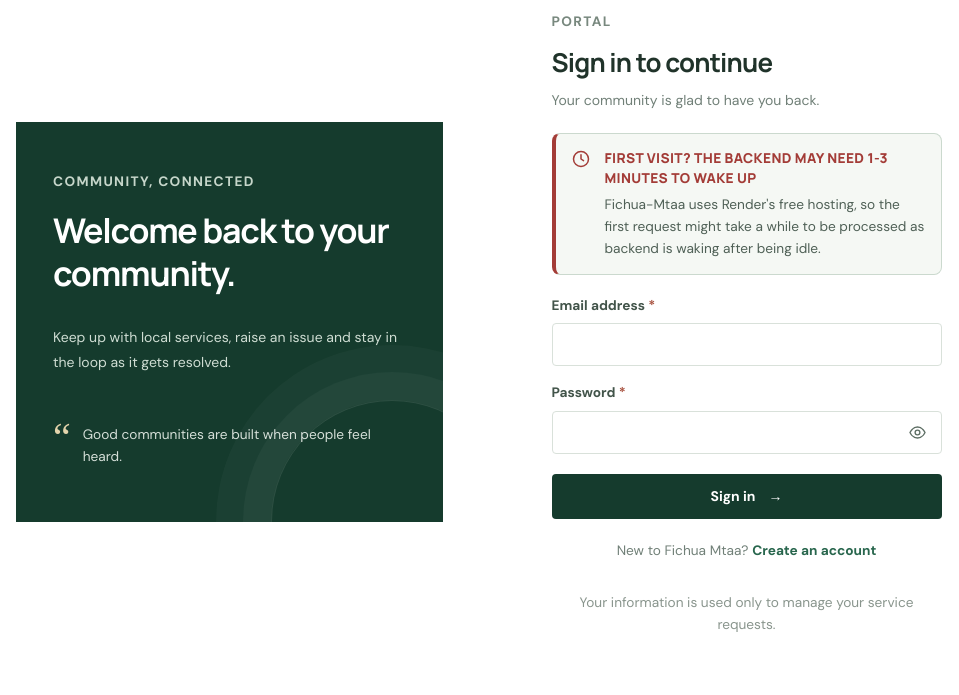
Scenario: authentication forms › shows a safe generic credential error after a failed login
This screenshot has width=959, height=695.
Type "citizen@example.com" into the field labelled "Email address *" at point(746, 345), box [552,323,942,366]
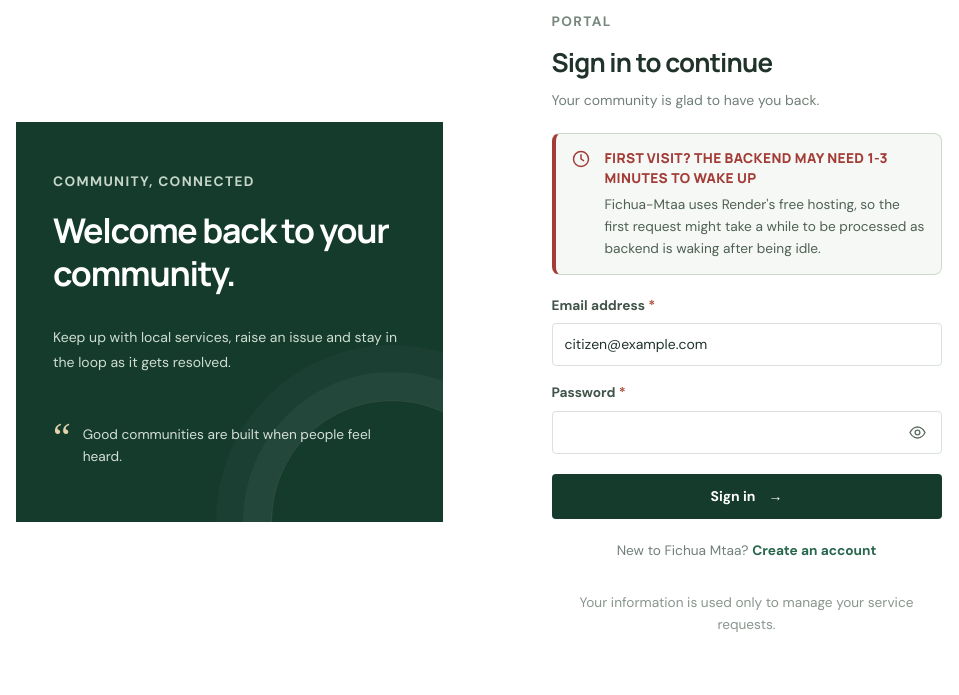
Type "incorrect-value" into the password field labelled "Password *" at point(746, 432), box [552,411,942,454]
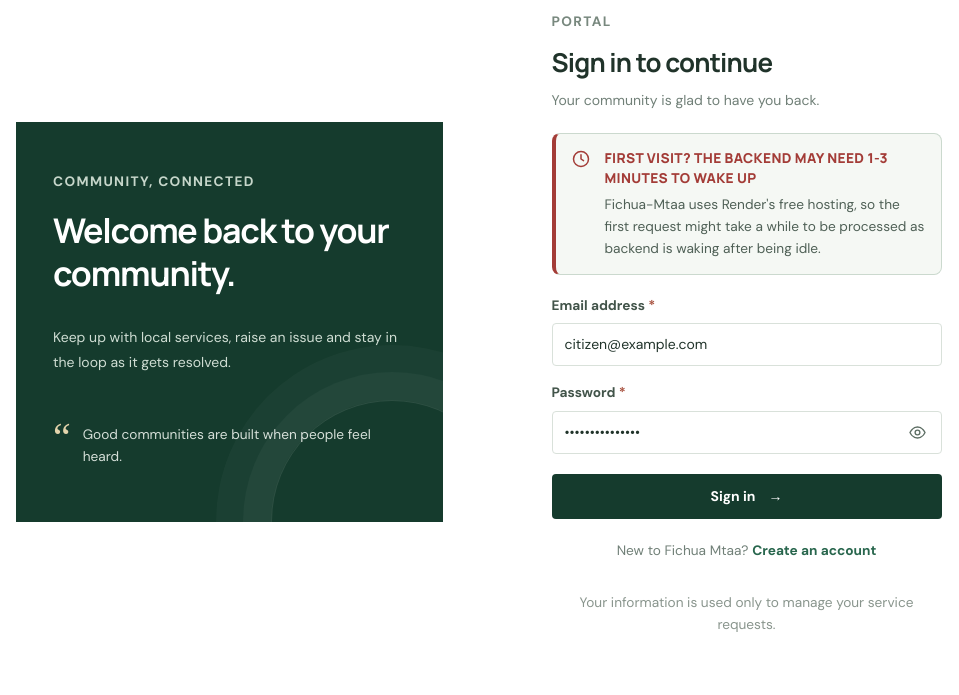
Click the button "Sign in →" at point(746, 497), box [552,474,942,519]
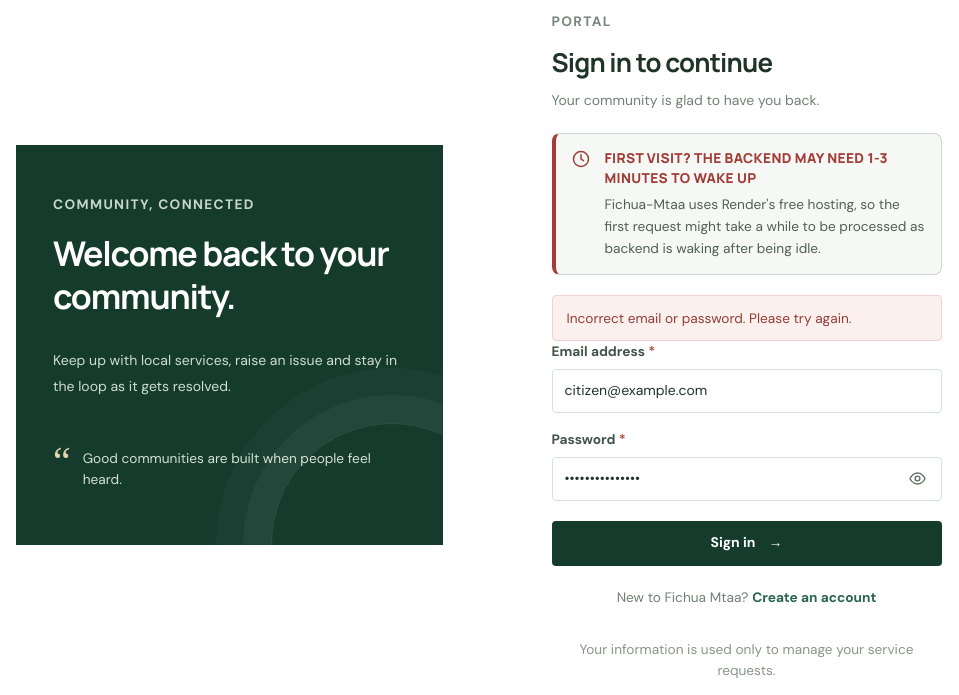
Result: the message reads "Incorrect email or password. Please try again." at [566,309,852,327]
